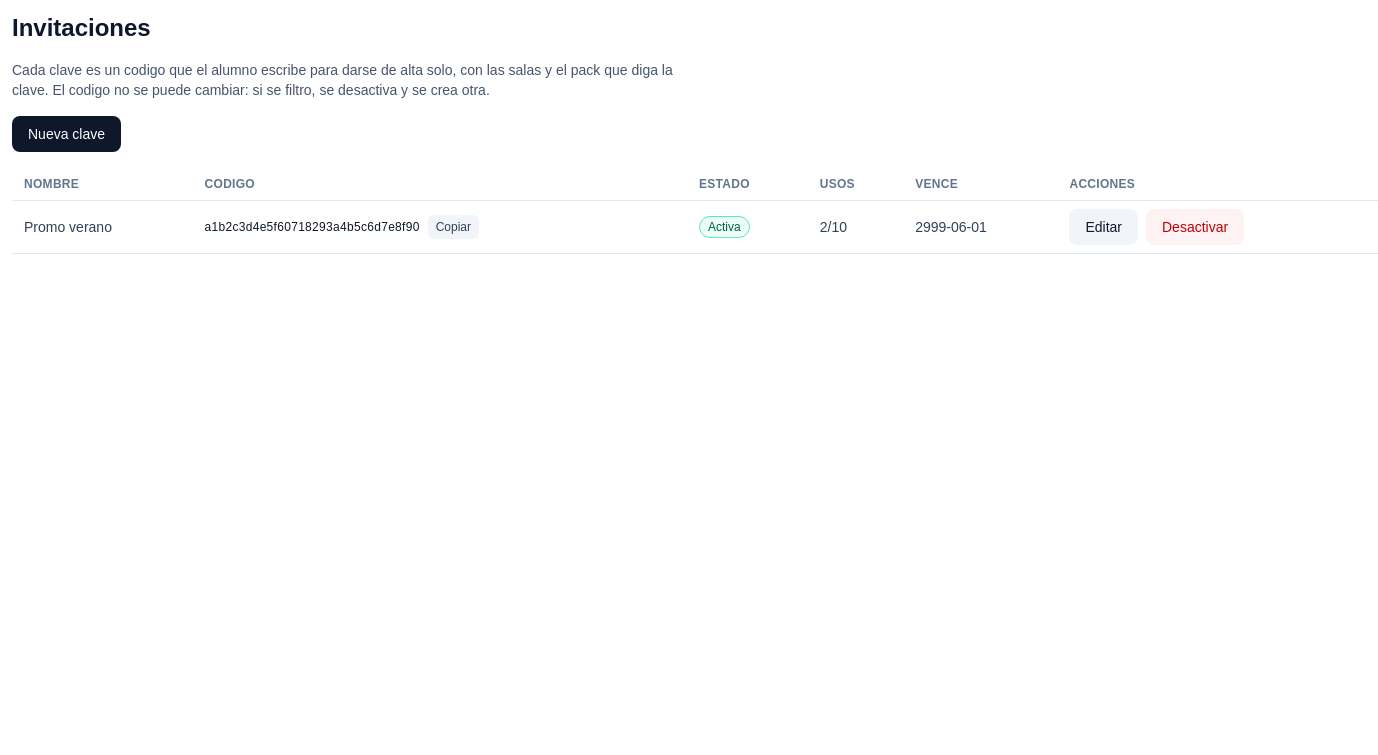
it: editar una clave › cancelar cierra el formulario sin mandar nada
Click the button with aria-label "Editar Promo verano".
click(1104, 227)  # box [1069,209,1138,245]
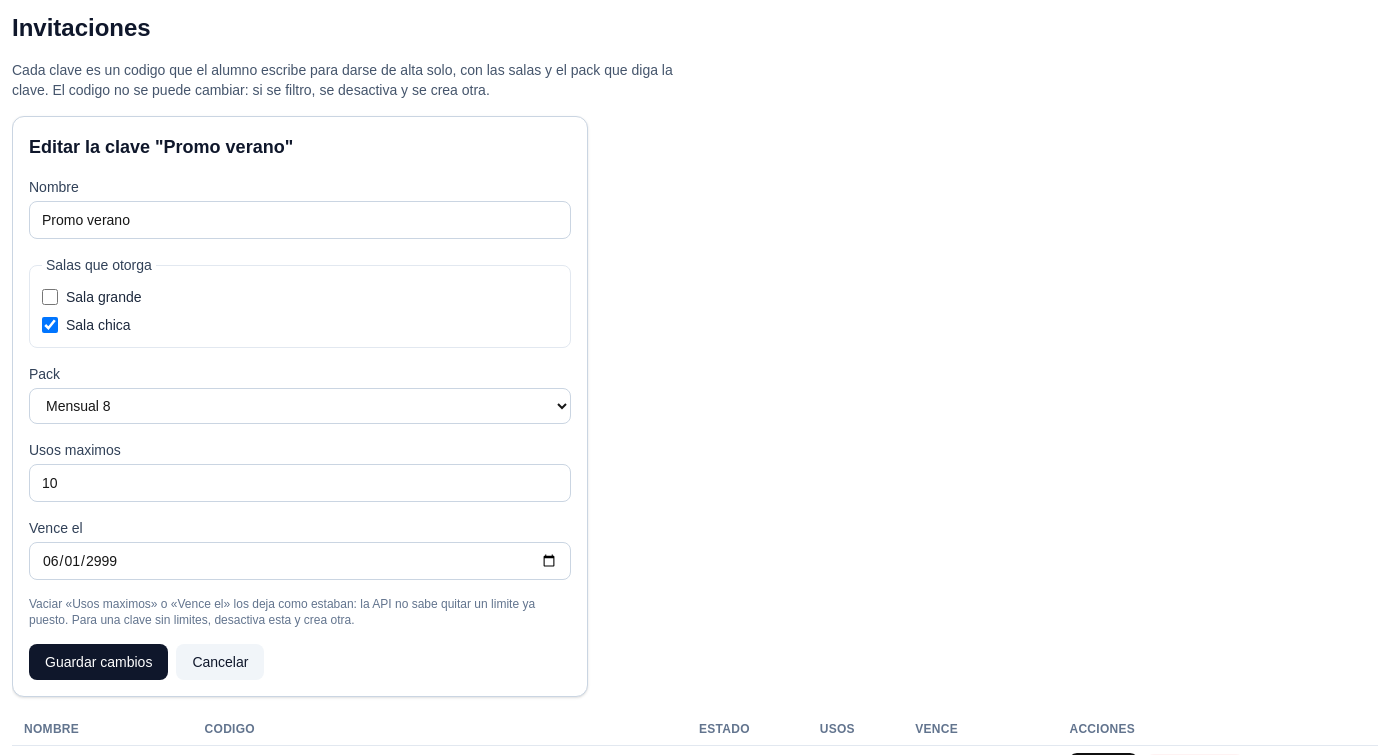
Click the button "Cancelar".
click(220, 662)  # box [176,644,264,680]
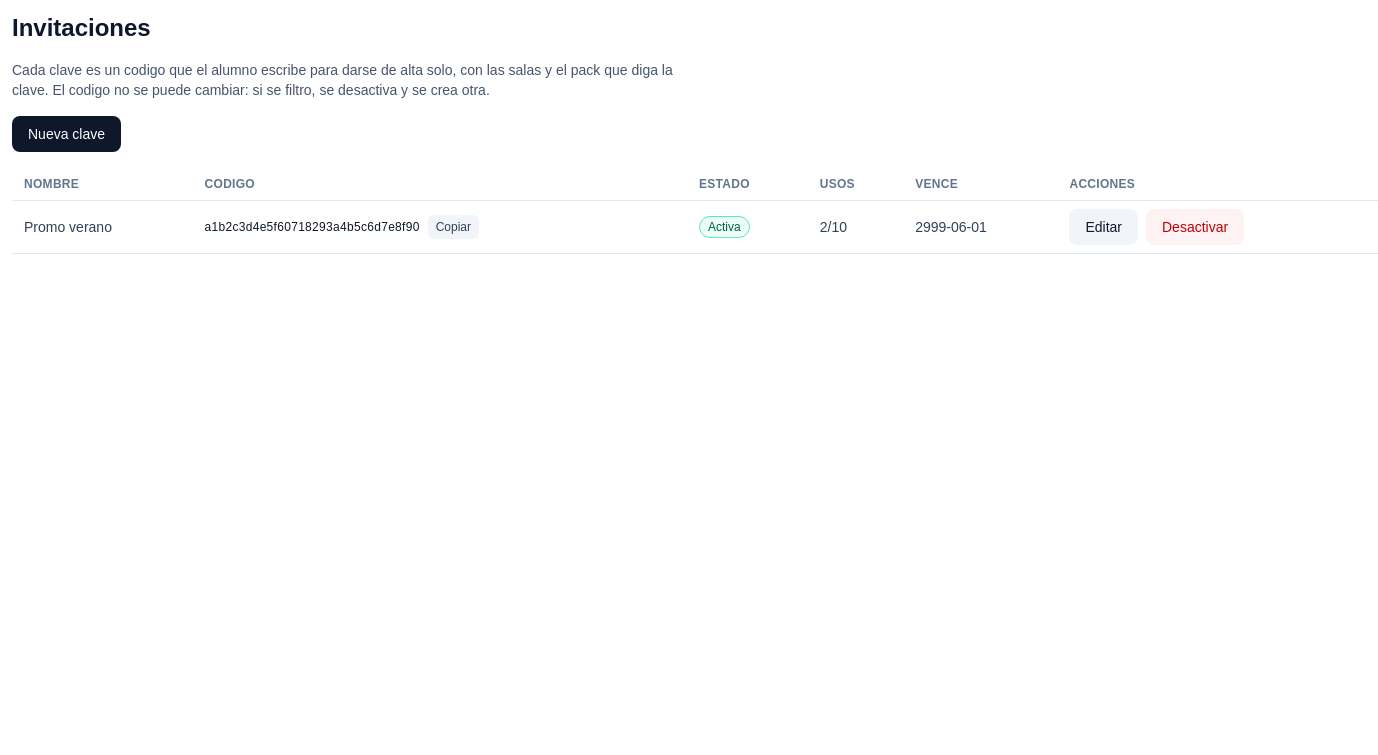
Expected: the form is gone
